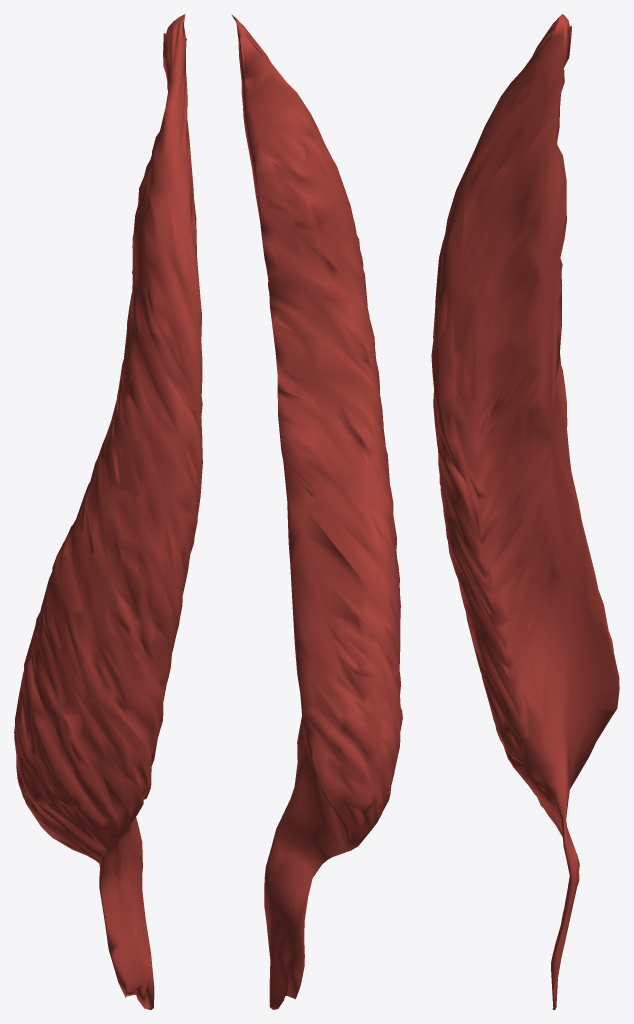
File: musculos-vastus-medialis-muscle-l.glb
The picture shows the model from 3 angles, left to right: view 1: azimuth 30°, elevation 25°; view 2: azimuth 150°, elevation 25°; view 3: azimuth 270°, elevation 25°; orthographic projection. The views are drawn at different scales.
Parts seen in each view (by area): view 1: Vastus medialis muscle.l; view 2: Vastus medialis muscle.l; view 3: Vastus medialis muscle.l.
Part boxes in pixels (x1,y1,x2,y2): Vastus medialis muscle.l: [14, 14, 202, 1009]; Vastus medialis muscle.l: [231, 14, 402, 1009]; Vastus medialis muscle.l: [431, 14, 619, 1009].
Size of the model in its own units: 0.0716 by 0.4077 by 0.0685.
